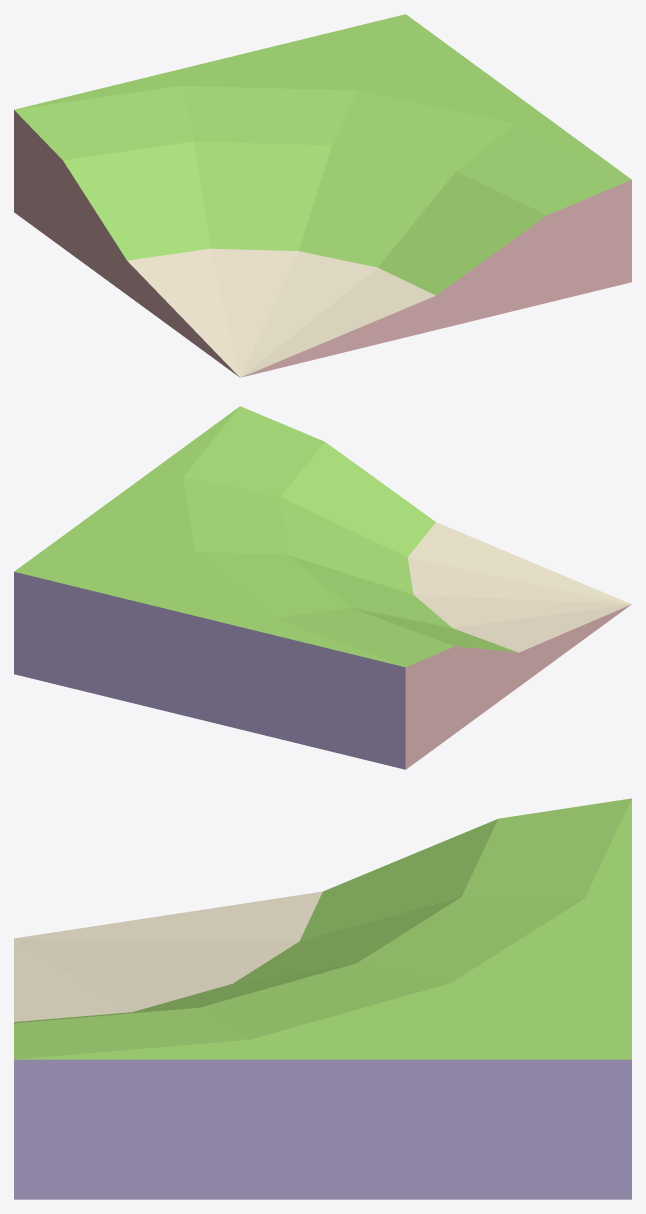
The model's file is Path_Terrain_Basic_Curve_Inner_1x1.glb.
3 renders of one model, top to bottom at view 1: azimuth 30°, elevation 25°; view 2: azimuth 150°, elevation 25°; view 3: azimuth 270°, elevation 25°, orthographic. The views are drawn at different scales.
Visible parts, largest first — view 1: Path_Terrain_Basic_Curve_Inner_1x1; view 2: Path_Terrain_Basic_Curve_Inner_1x1; view 3: Path_Terrain_Basic_Curve_Inner_1x1.
Boxes of the visible parts, x1,y1,x2,y2 form: Path_Terrain_Basic_Curve_Inner_1x1: [14, 14, 631, 377]; Path_Terrain_Basic_Curve_Inner_1x1: [14, 406, 631, 769]; Path_Terrain_Basic_Curve_Inner_1x1: [14, 798, 631, 1199].
Size of the model in its own units: 100 by 25 by 100.
